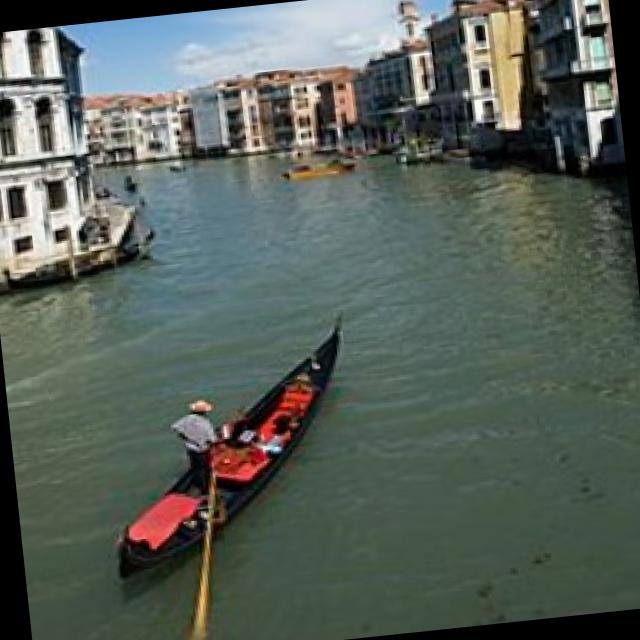boat: (78, 295, 383, 607)
